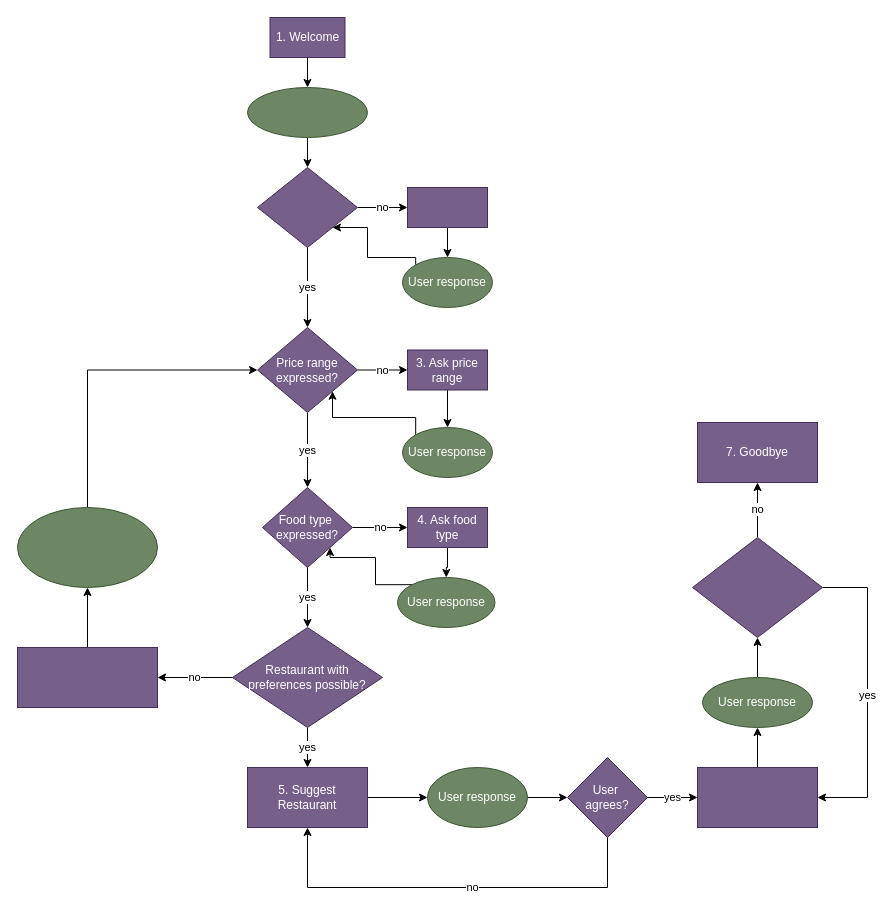
The diagram is 893 pixels wide and 913 high, and some of its shapes have lost their labels. The shapes that lost their labels are listed below. From the top down, each one's centre as x and y in pixels, then its label:
point 307,112: Express references
point 307,207: Area expressed?
point 447,207: 2. Ask area
point 87,547: Express new/ reviewed preferences
point 757,587: Request that still needs to be handled?
point 87,677: 6. Express that no restaurant is possible with current information
point 757,797: 6. Handle requests (such as phone number, adress)
